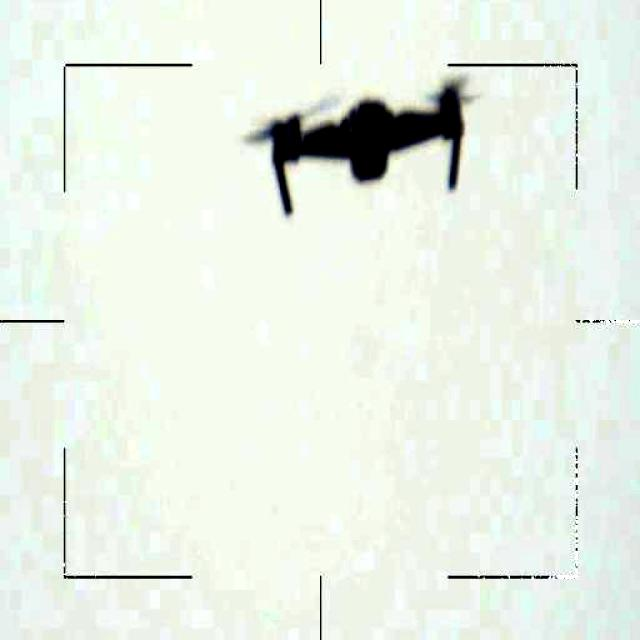bird: (232, 75, 484, 224)
